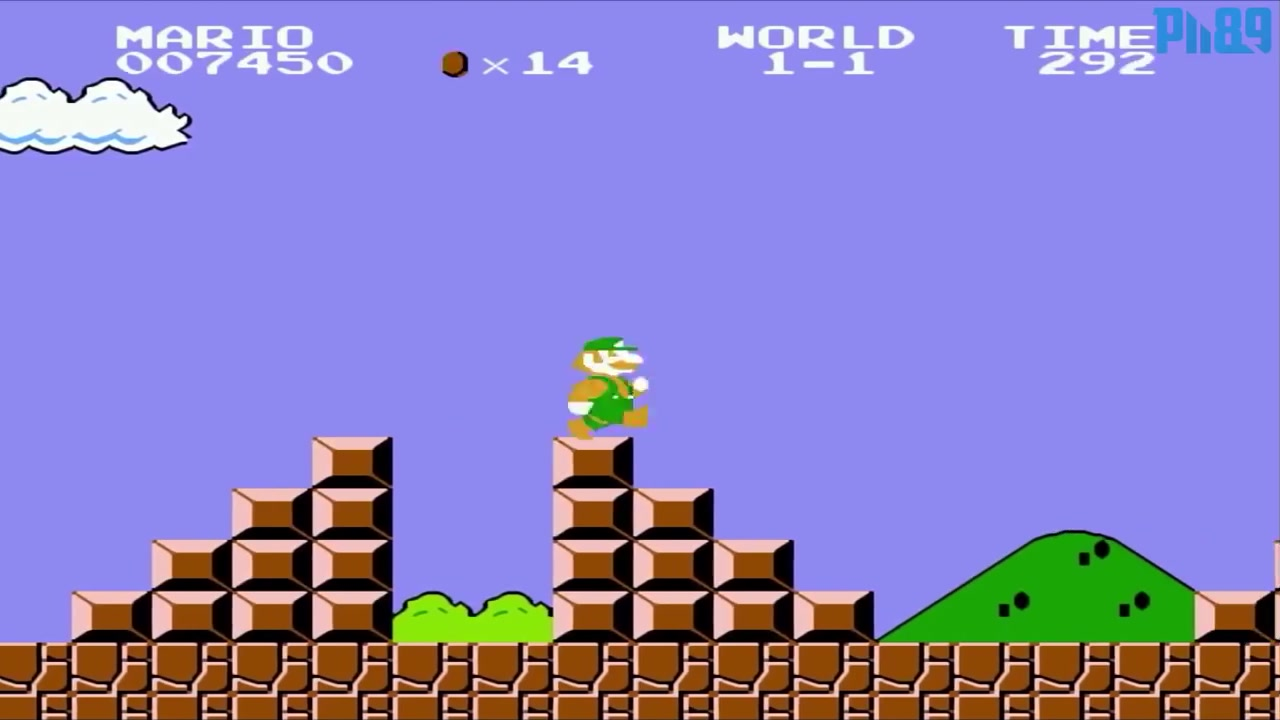mario: (552, 323, 655, 444)
